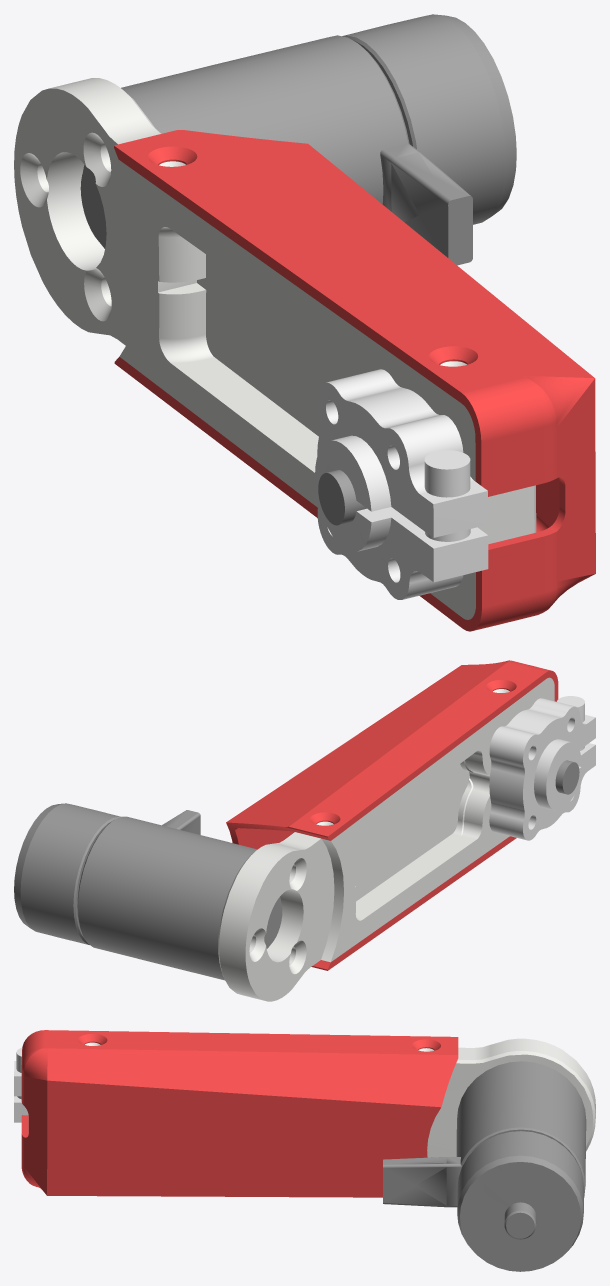
The model's file is upper_leg_left_rear.obj.
3 views of the same model, one above another, from view 1: azimuth 30°, elevation 25°; view 2: azimuth 150°, elevation 25°; view 3: azimuth 270°, elevation 25° (orthographic). The views are drawn at different scales.
Parts seen in each view (by area): view 1: Body2.001; view 2: Body2.001; view 3: Body2.001.
Part boxes in pixels (x1,y1,x2,y2): Body2.001: (14,14,595,631); Body2.001: (14,660,595,1001); Body2.001: (14,1030,595,1271).
Size of the model in its own units: 0.0673 by 0.0289 by 0.1098.
